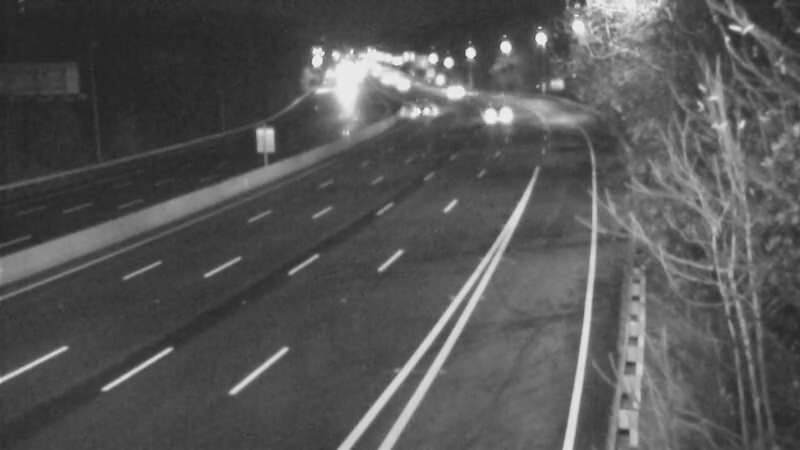vehicle: (421, 68, 471, 118), (394, 83, 444, 133), (459, 88, 509, 138)
